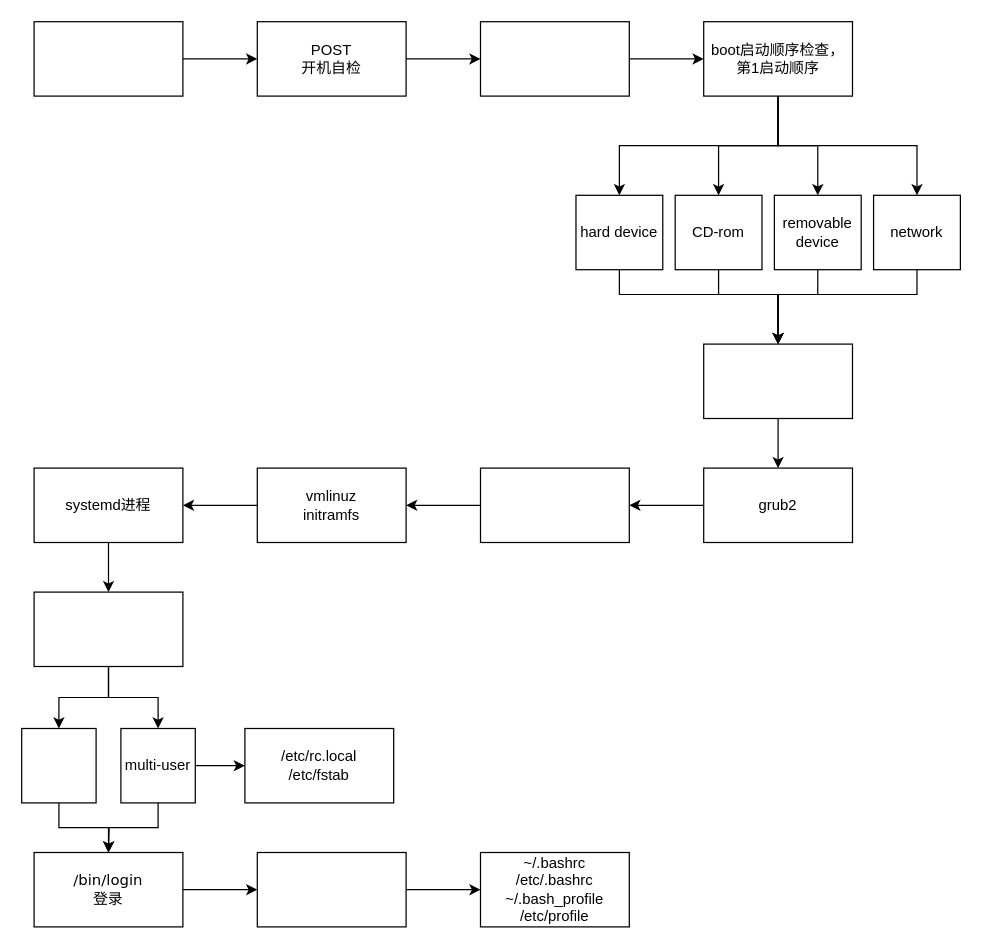
The diagram is 982 pixels wide and 949 high, and some of its shapes have lost their labels. The centre of each missing label's shape, as x and y in pixels:
"/boot里的文件系统的驱动" goes at (x=554, y=504).
"BIOS 对硬件进行检测" goes at (x=554, y=58).
"graphical" goes at (x=58, y=765).
"MBR 主引导记录" goes at (x=777, y=380).
"power on 开机" goes at (x=108, y=58).
"根据/etc/passwd和/etc/shadow里面检测用户和密码是否正确" goes at (x=331, y=889).
"读取/etc/inittab/文件 启动对应的运行级别里的服务" goes at (x=108, y=628).
